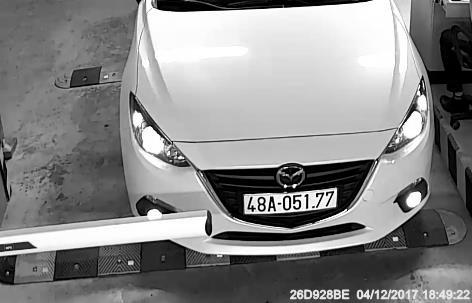License-plate: (239, 174, 349, 223)
